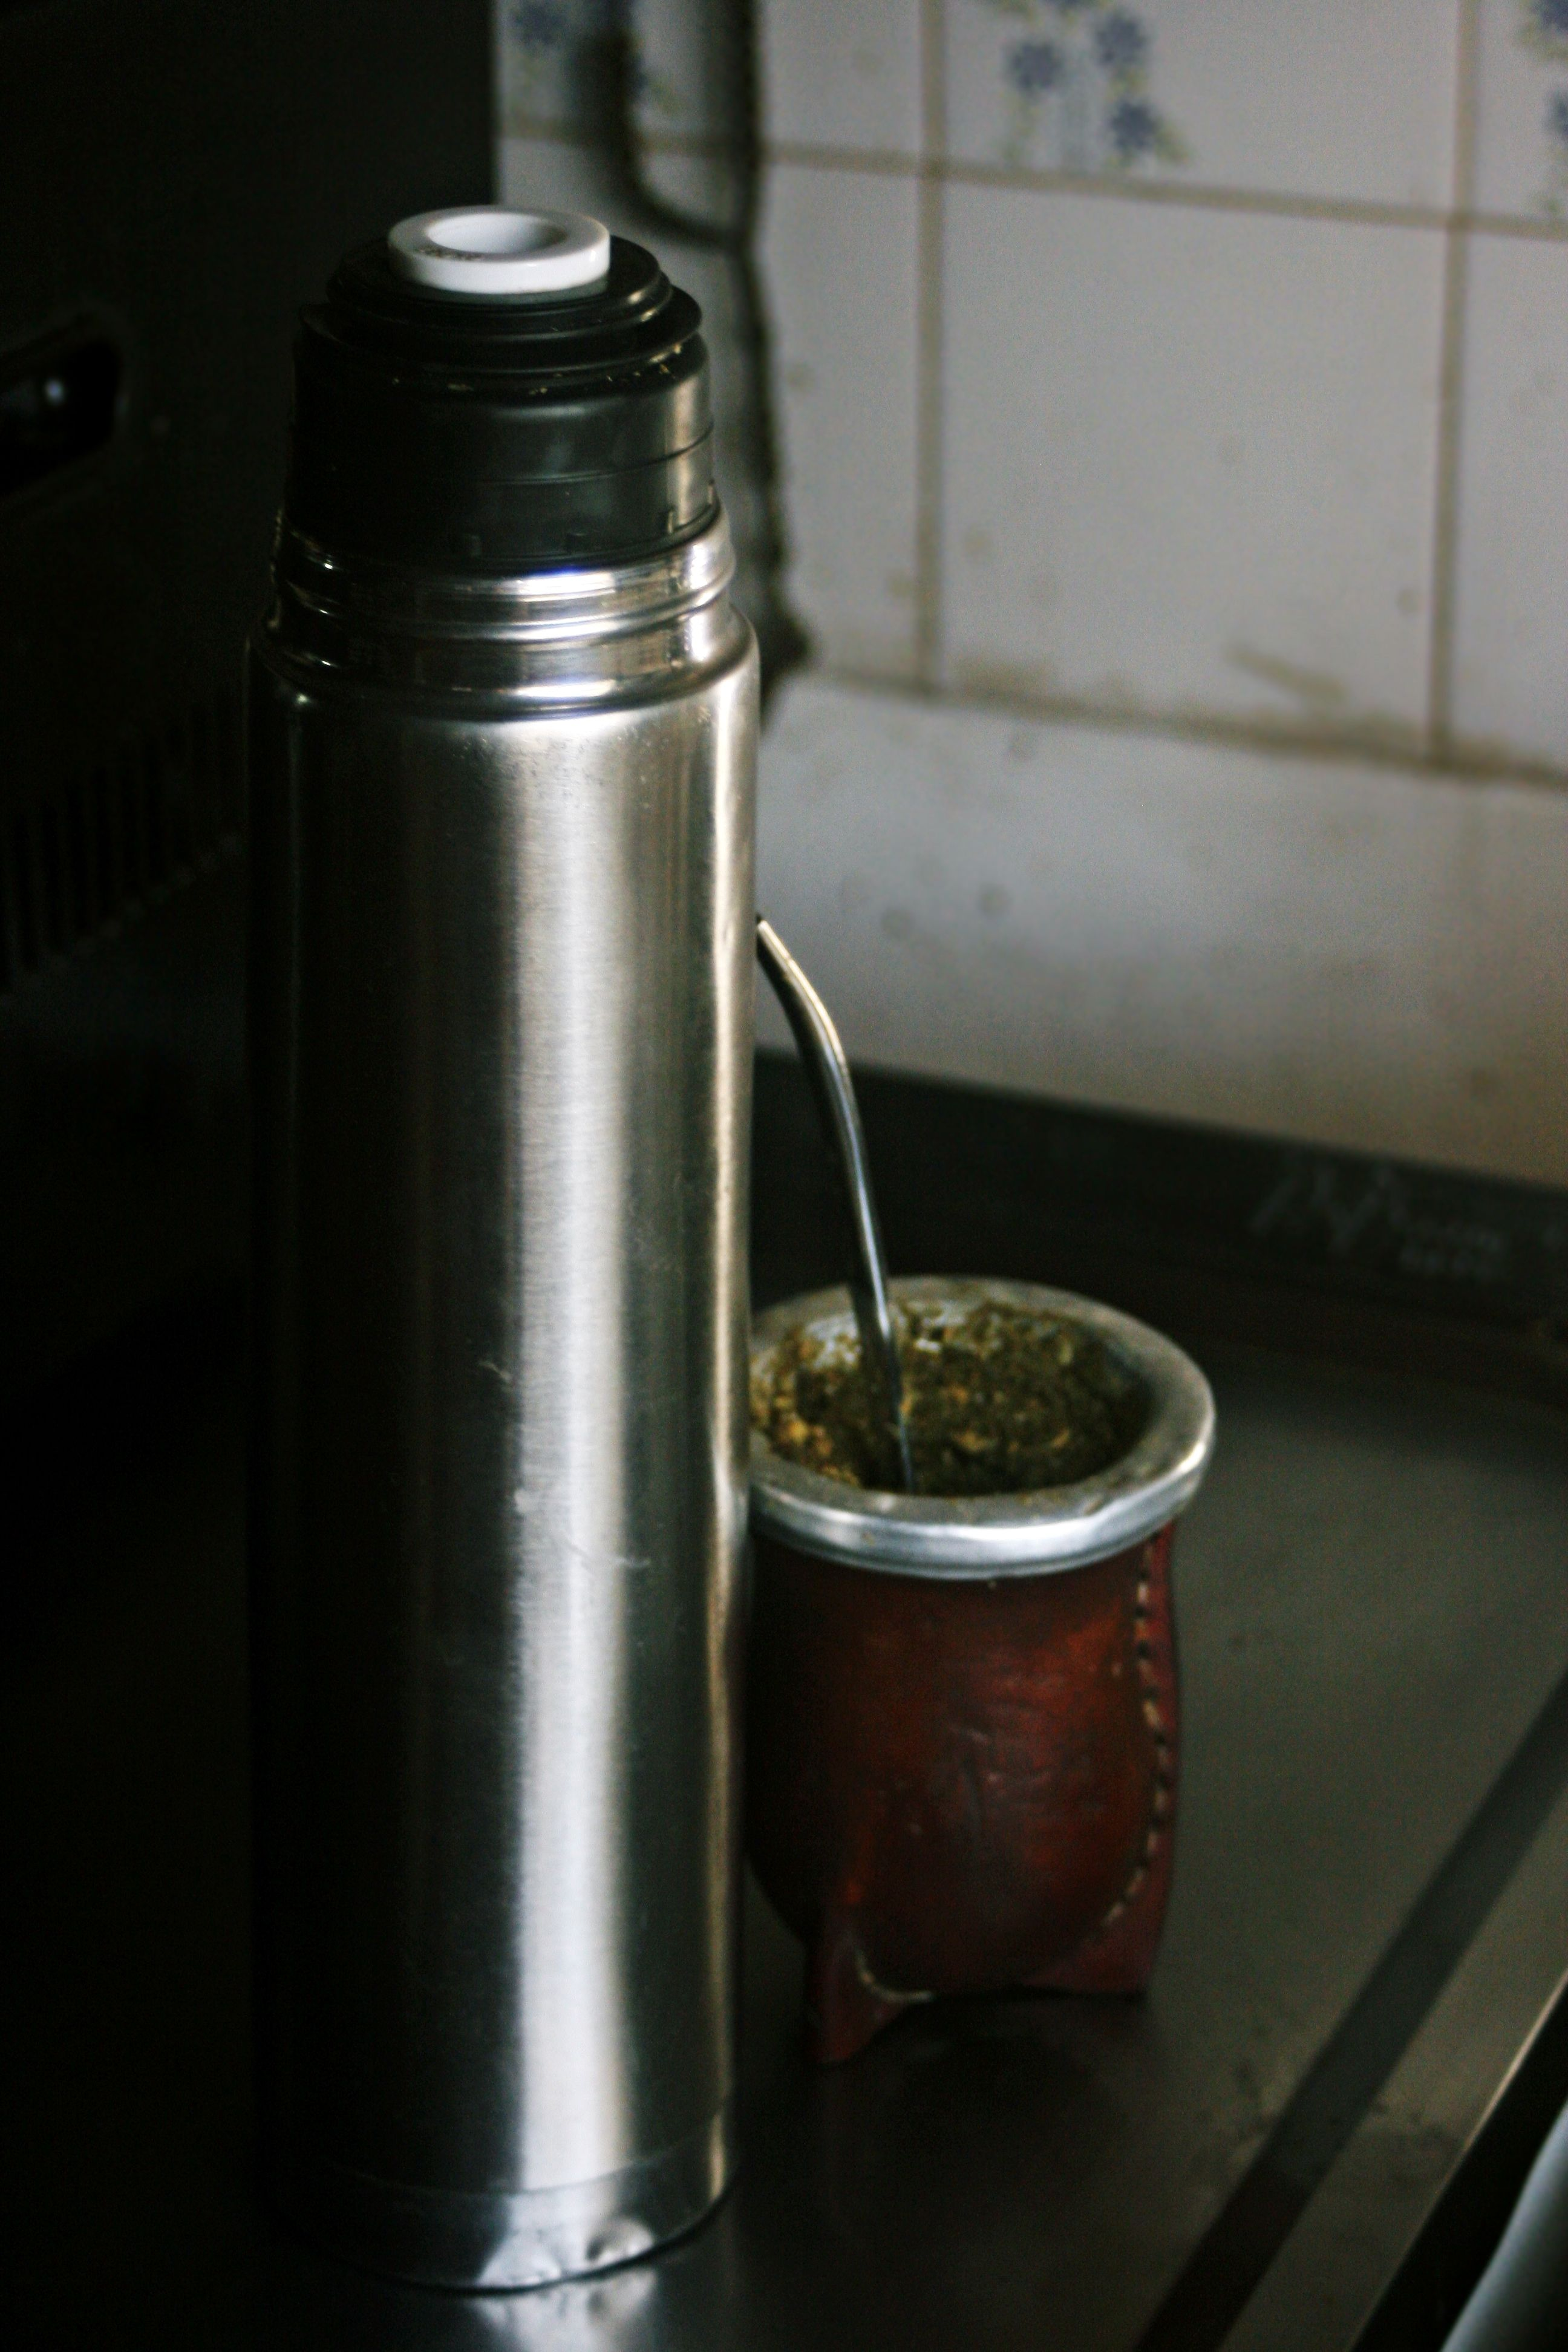mate: (737, 1274, 1202, 2070)
